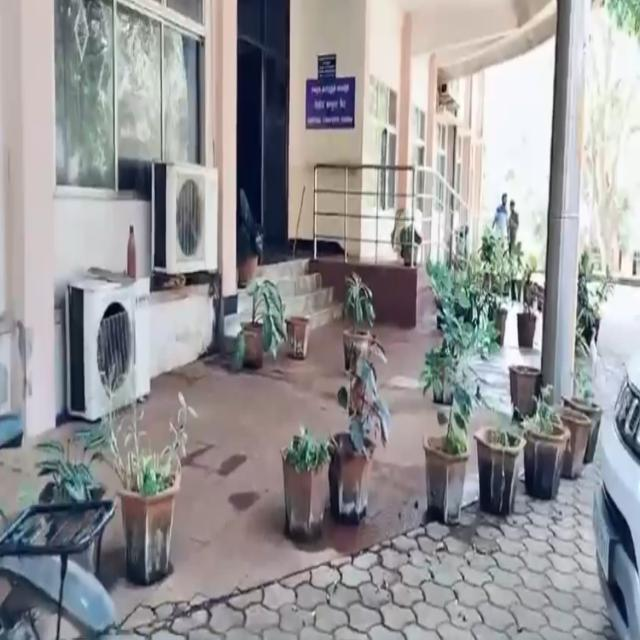plant ahead at: (85, 395, 190, 582), (329, 361, 390, 524), (278, 422, 330, 546), (477, 420, 525, 519)
